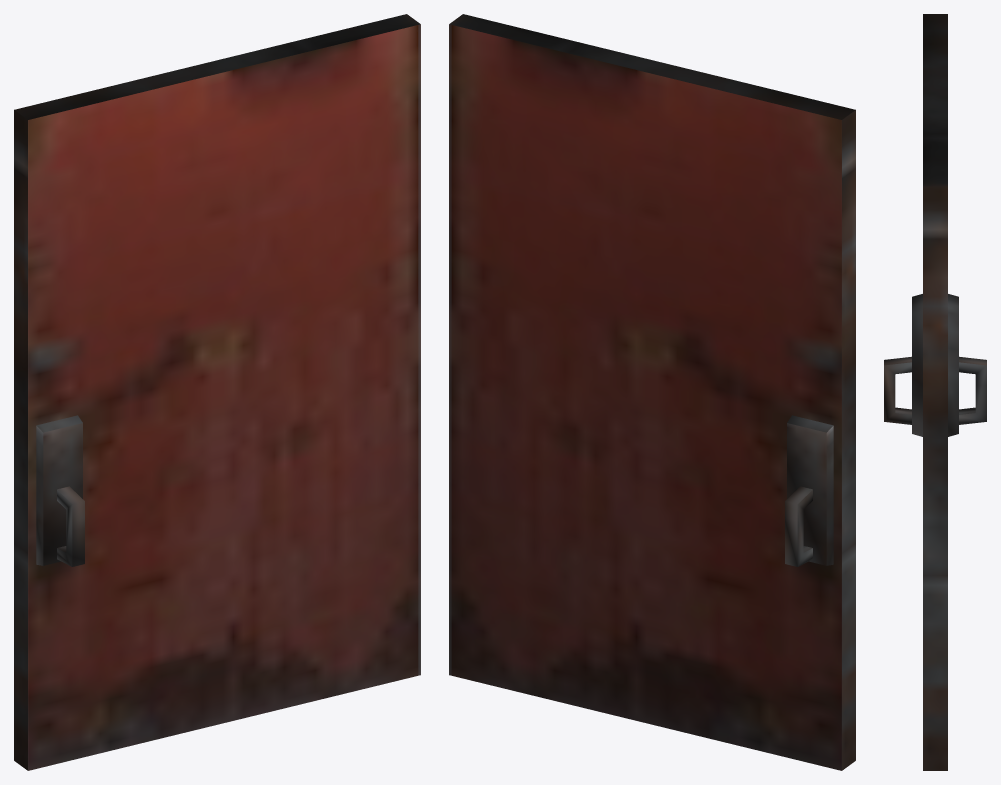
Rendered from grave_factory_locked_door_a.glb.
3 views of the same model, side by side, from view 1: azimuth 30°, elevation 25°; view 2: azimuth 150°, elevation 25°; view 3: azimuth 270°, elevation 25° (orthographic). The views are drawn at different scales.
Parts seen in each view (by area): view 1: 01_fac_locked_door_1x1_a; view 2: 01_fac_locked_door_1x1_a; view 3: 01_fac_locked_door_1x1_a.
Part boxes in pixels (bbox=[...]): 01_fac_locked_door_1x1_a: bbox=[14, 14, 420, 770]; 01_fac_locked_door_1x1_a: bbox=[449, 14, 855, 770]; 01_fac_locked_door_1x1_a: bbox=[884, 14, 986, 770].
Bounding box in the file's own units: 1.2 × 1.9 × 0.3023.
Materials: 1 (1 with a texture image).
